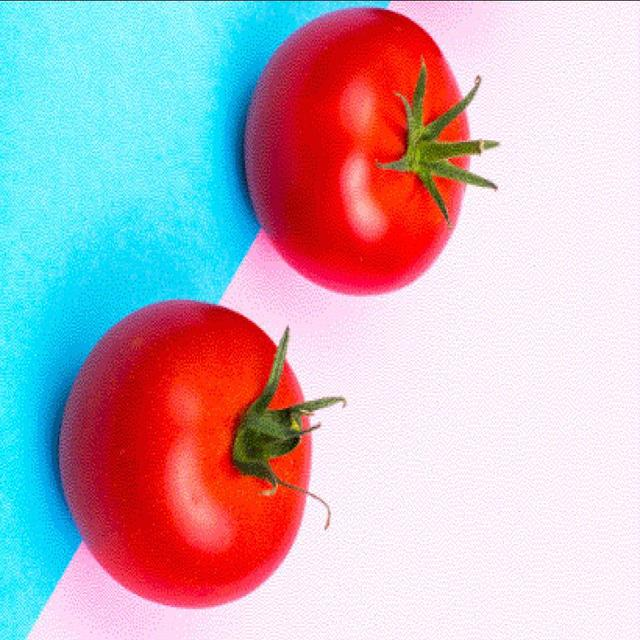Healthy Fruit: (122, 97, 236, 296)
